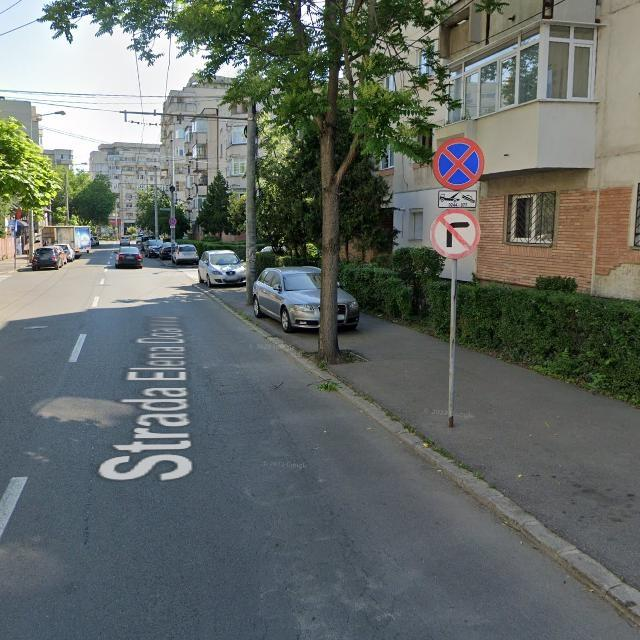forb_waiting: (430, 136, 485, 191)
